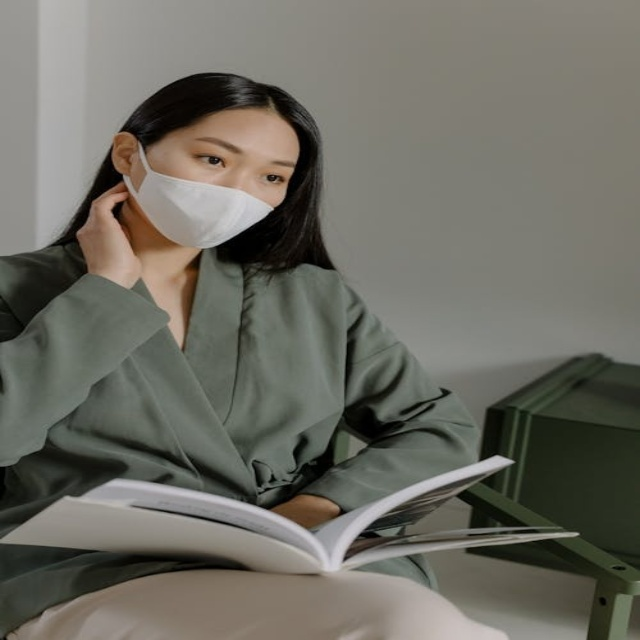Mascara: (124, 140, 276, 248)
Sin_gafas: (177, 131, 291, 190)
Sin_guantes: (76, 178, 148, 285)
